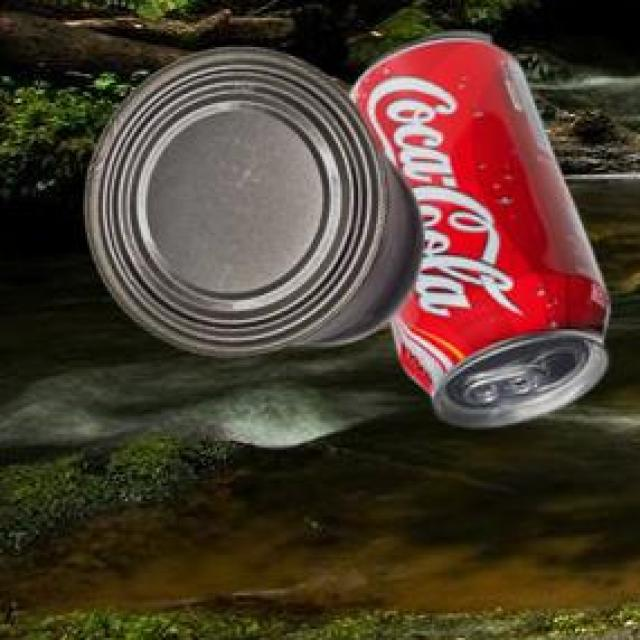logam: (82, 44, 422, 352), (346, 28, 605, 424)
